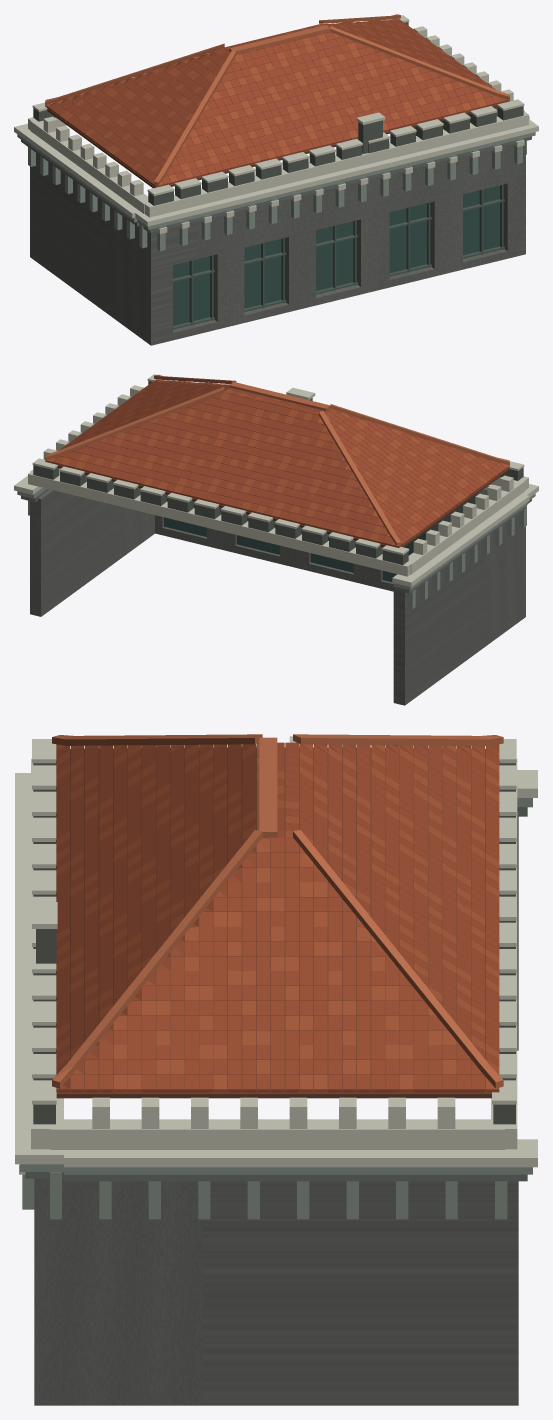
Rendered from changning-dengyun-apartments-crenellated-tile-roof-raw.glb.
3 views of the same model, one above another, from view 1: azimuth 30°, elevation 25°; view 2: azimuth 150°, elevation 25°; view 3: azimuth 270°, elevation 25° (orthographic). The views are drawn at different scales.
Visible parts, largest first — view 1: 登云公寓翼楼红瓦坡顶与齿形女儿墙; view 2: 登云公寓翼楼红瓦坡顶与齿形女儿墙; view 3: 登云公寓翼楼红瓦坡顶与齿形女儿墙.
Part boxes in pixels (x1,y1,x2,y2): 登云公寓翼楼红瓦坡顶与齿形女儿墙: (14, 14, 538, 345); 登云公寓翼楼红瓦坡顶与齿形女儿墙: (14, 374, 538, 705); 登云公寓翼楼红瓦坡顶与齿形女儿墙: (15, 734, 537, 1405).
Size of the model in its own units: 6.74 by 3.57 by 3.84.
Materials: 11 (1 with a texture image).
